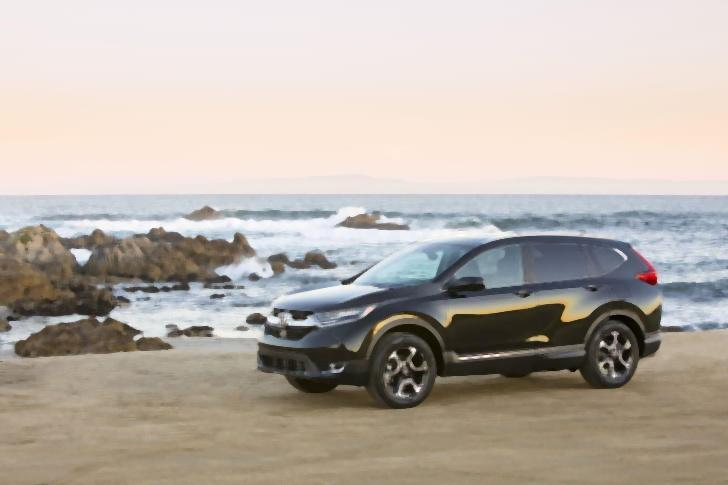Car hood: (266, 280, 388, 311)
Fender - -F-L-: (366, 285, 455, 380)
Fender - -R-L-: (594, 266, 672, 330)
Front bumper: (252, 323, 376, 390)
Headlight - -L-: (311, 299, 379, 330)
Passenger-s door - -F-L-: (447, 235, 544, 355)
Passenger-s door - -R-L-: (535, 234, 616, 353)
Rear bumper: (638, 326, 671, 364)
Rear light - -L-: (628, 248, 665, 294)
Side bumper - -L-: (434, 342, 592, 377)
Side mirror - -L-: (437, 272, 489, 302)
